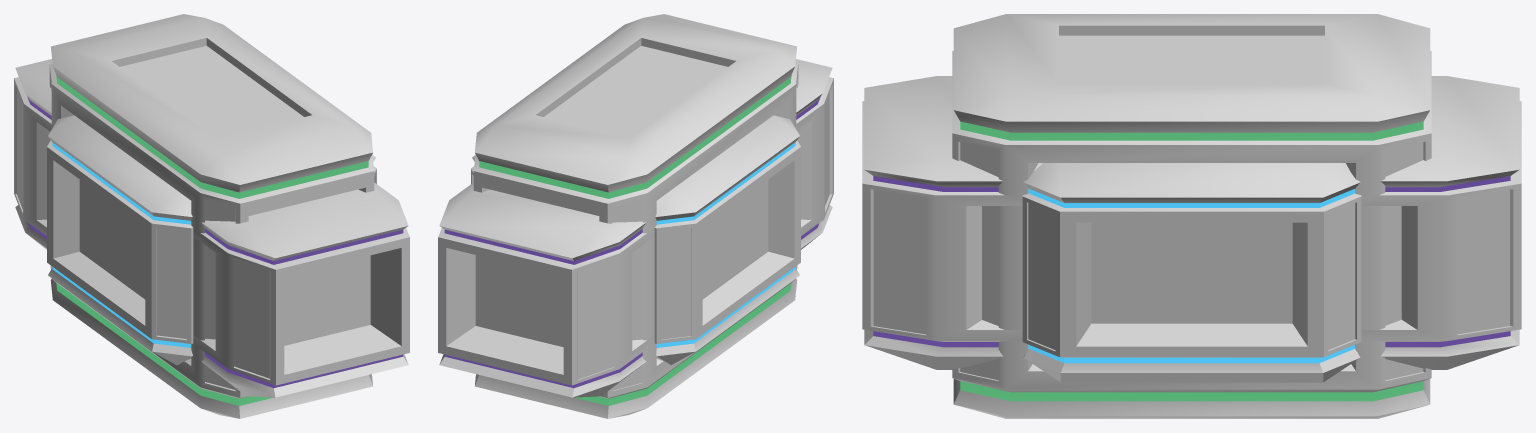
The model's file is Boxes.fbx.
3 renders of one model, left to right at view 1: azimuth 30°, elevation 25°; view 2: azimuth 150°, elevation 25°; view 3: azimuth 270°, elevation 25°, orthographic. The views are drawn at different scales.
Parts seen in each view (by area): view 1: Box_4, Box_2, Box_1; view 2: Box_4, Box_2, Box_1; view 3: Box_4, Box_1, Box_2.
Part boxes in pixels (<box>): Box_4: <box>49,14,374,418</box>; Box_2: <box>14,59,409,397</box>; Box_1: <box>47,115,376,364</box>; Box_4: <box>473,14,798,418</box>; Box_2: <box>438,59,833,397</box>; Box_1: <box>471,115,800,364</box>; Box_4: <box>952,14,1431,418</box>; Box_1: <box>1022,163,1361,382</box>; Box_2: <box>862,76,1521,369</box>.
Size of the model in its own units: 132 by 144 by 266.
